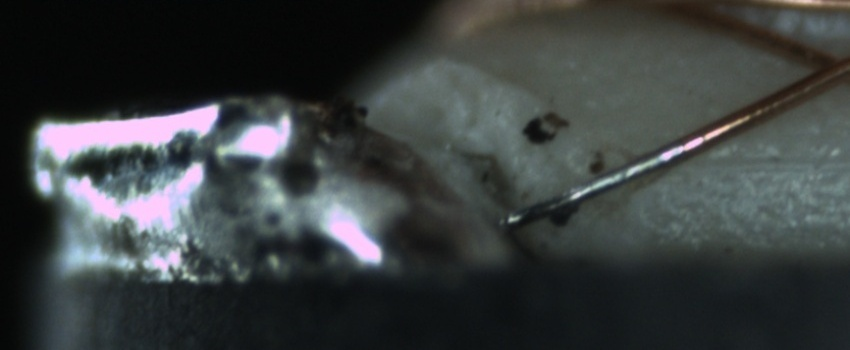CL: (782, 35, 849, 94)
DL: (671, 133, 849, 197)
TS: (503, 144, 684, 229)
